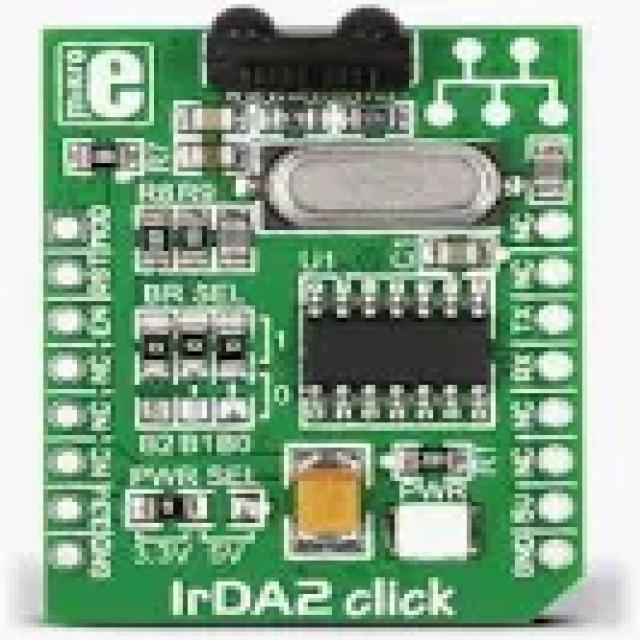pcb: (34, 4, 587, 628)
